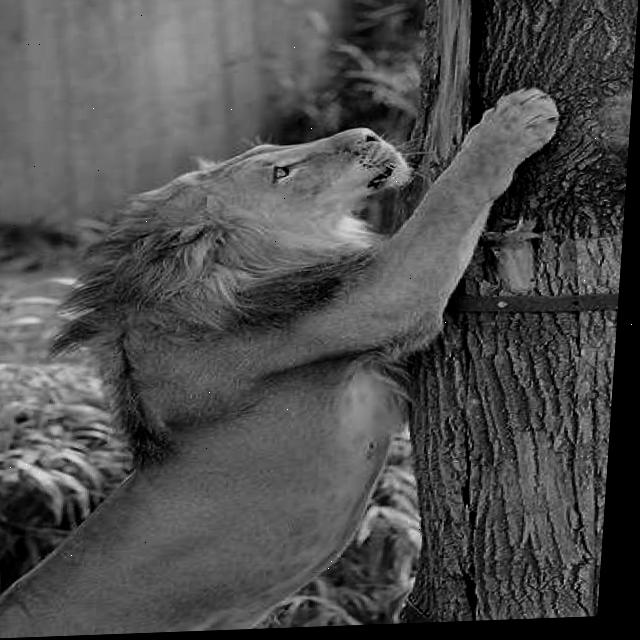Lion: (66, 95, 600, 530)
